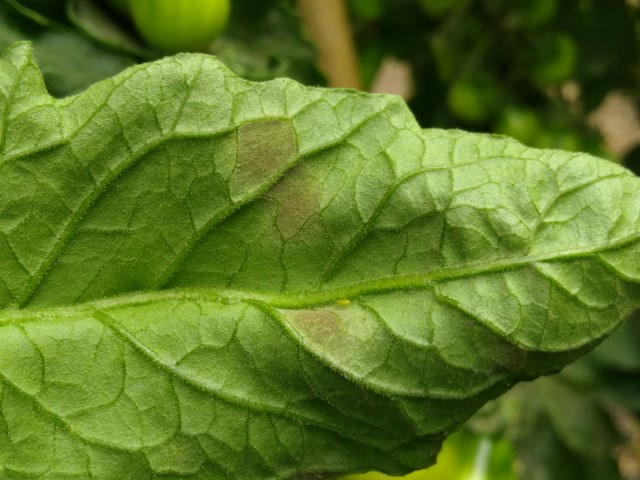cladosporium: (230, 123, 328, 243), (286, 308, 348, 357)
